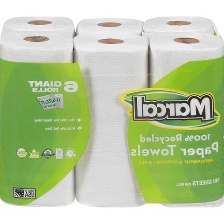tissue: (0, 9, 224, 212)
